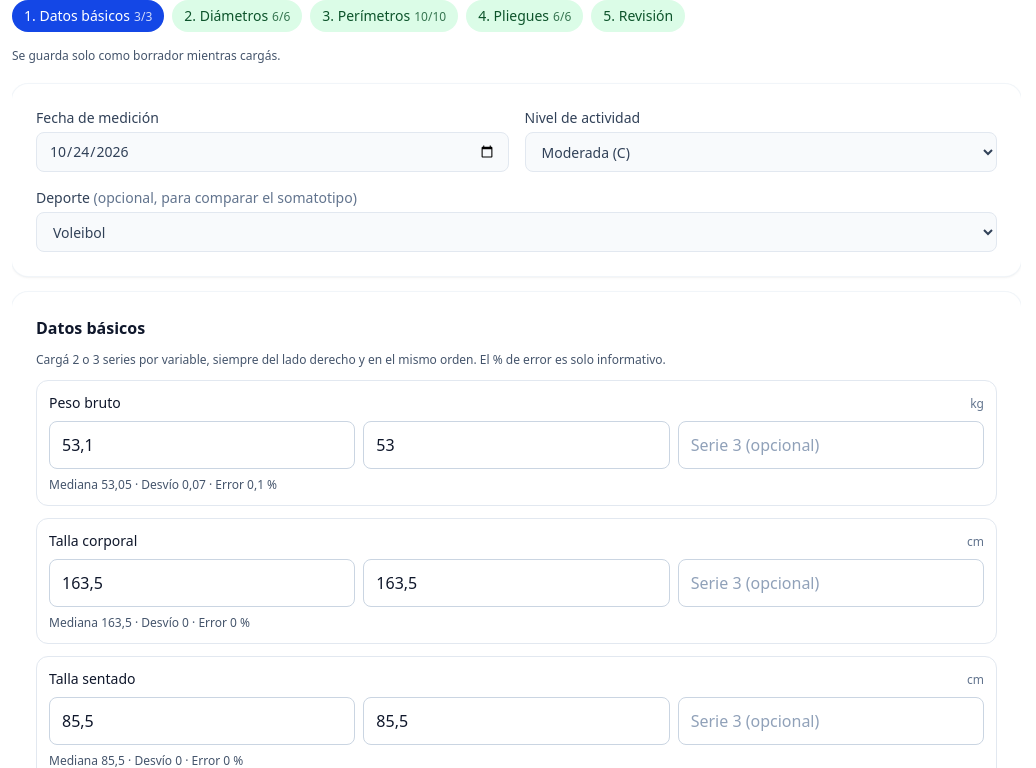
Test: error técnico de medición del investigador elegido › con una sola medición lo dice en singular
This screenshot has width=1036, height=768.
What coordinates should you click on to do the following:
click the button "5. Revisión"
I would click on:
 (638, 16)
Its box is [591, 0, 685, 32].
(page scrolled)
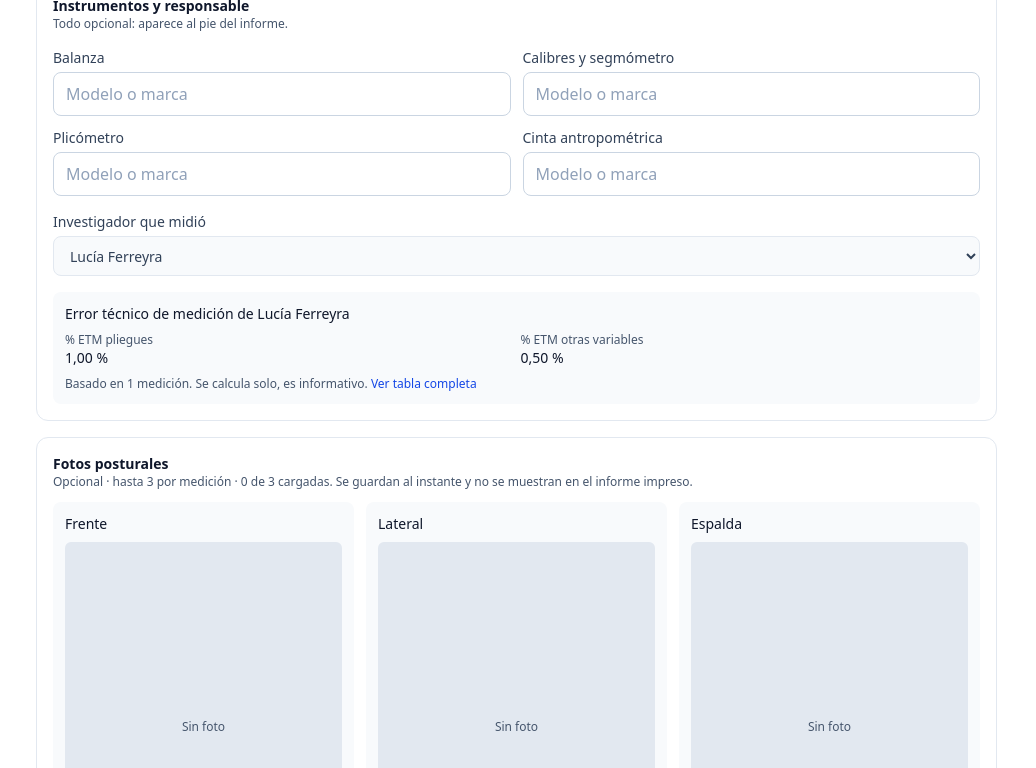
Result: the text "Basado en 1 medición." is shown at [65, 374, 652, 392]
